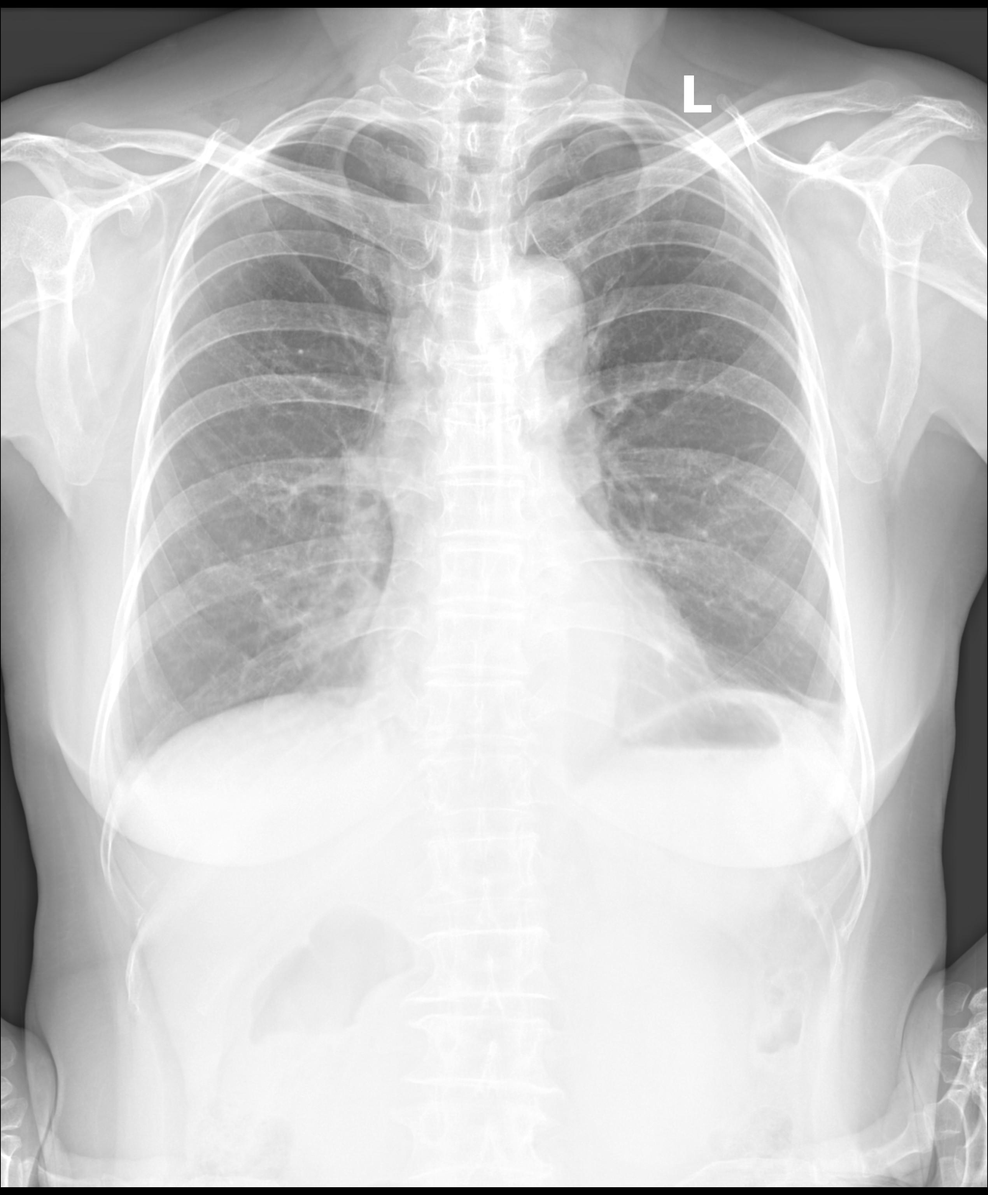Pleural thickening: (813, 661, 866, 762)
Pulmonary fibrosis: (787, 683, 847, 722)
